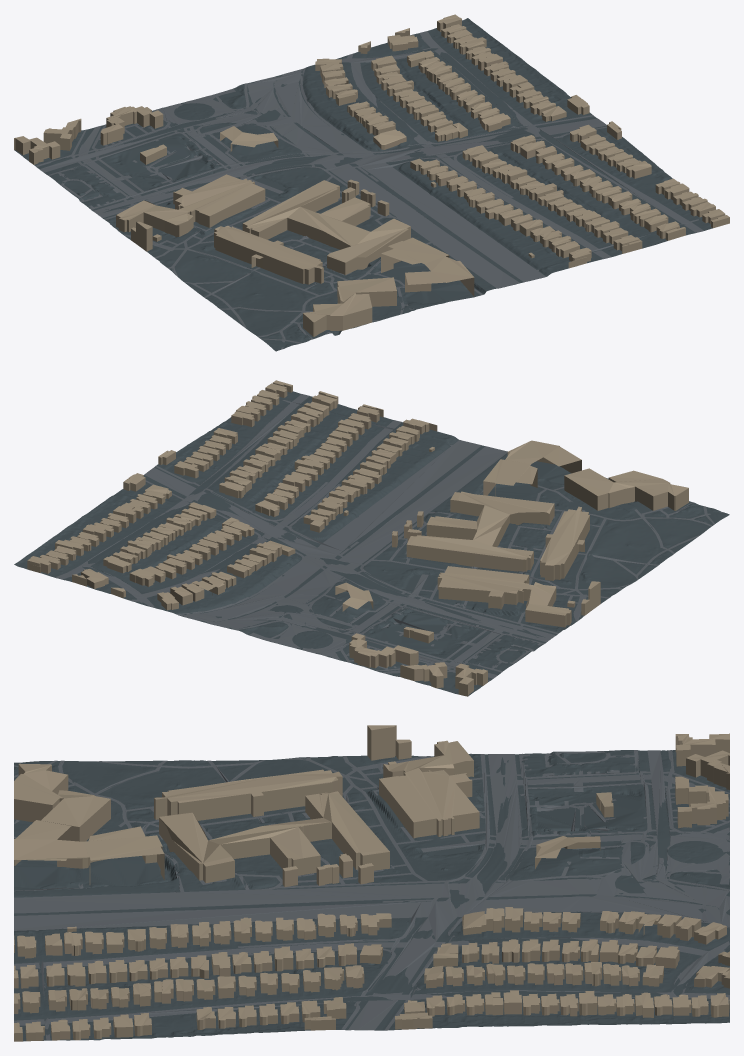
Rendered from epsg26910-1422-10872.lod0.glb.
3 renders of one model, top to bottom at view 1: azimuth 30°, elevation 25°; view 2: azimuth 150°, elevation 25°; view 3: azimuth 270°, elevation 25°, orthographic. The views are drawn at different scales.
Visible parts, largest first — view 1: epsg26910-1422-10872-lod0; view 2: epsg26910-1422-10872-lod0; view 3: epsg26910-1422-10872-lod0.
Boxes of the visible parts, <box> form: epsg26910-1422-10872-lod0: <box>14,14,729,351</box>; epsg26910-1422-10872-lod0: <box>14,380,729,696</box>; epsg26910-1422-10872-lod0: <box>14,725,729,1041</box>.
Bounding box in the file's own units: 384 × 30.82 × 384.
